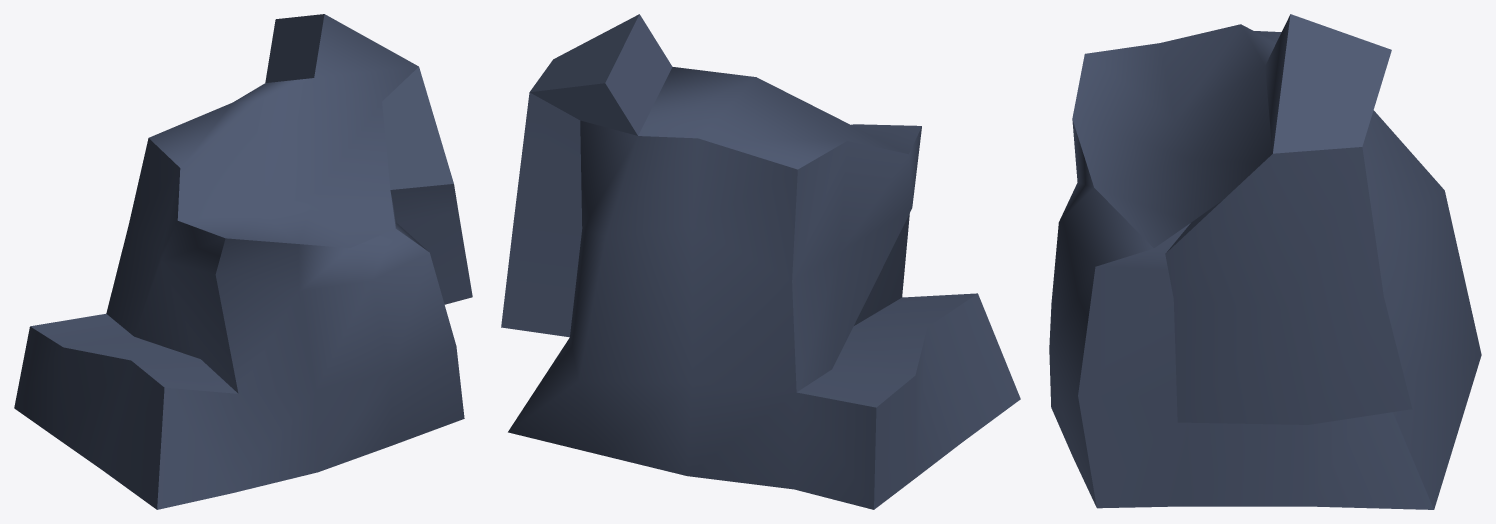
The model's file is Night_Rock_Med.fbx.
3 renders of one model, left to right at view 1: azimuth 30°, elevation 25°; view 2: azimuth 150°, elevation 25°; view 3: azimuth 270°, elevation 25°, orthographic. The views are drawn at different scales.
Parts seen in each view (by area): view 1: pCube1; view 2: pCube1; view 3: pCube1.
Part boxes in pixels (x1,y1,x2,y2): pCube1: [14, 14, 472, 509]; pCube1: [501, 14, 1020, 509]; pCube1: [1049, 14, 1481, 509].
Bounding box in the file's own units: 6.97 × 6.52 × 5.61.
